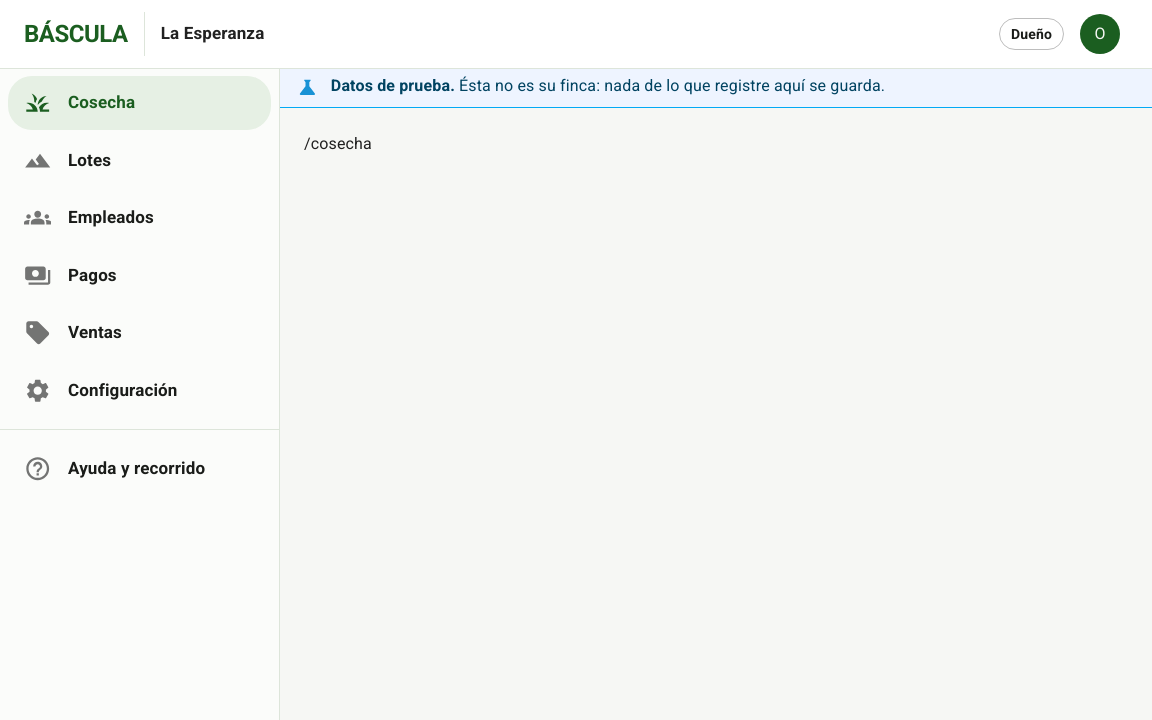
the account menu › starts the tour from «Ayuda y recorrido»
Click the button named "Cuenta" at (1100, 34), box [1072,6,1128,62]
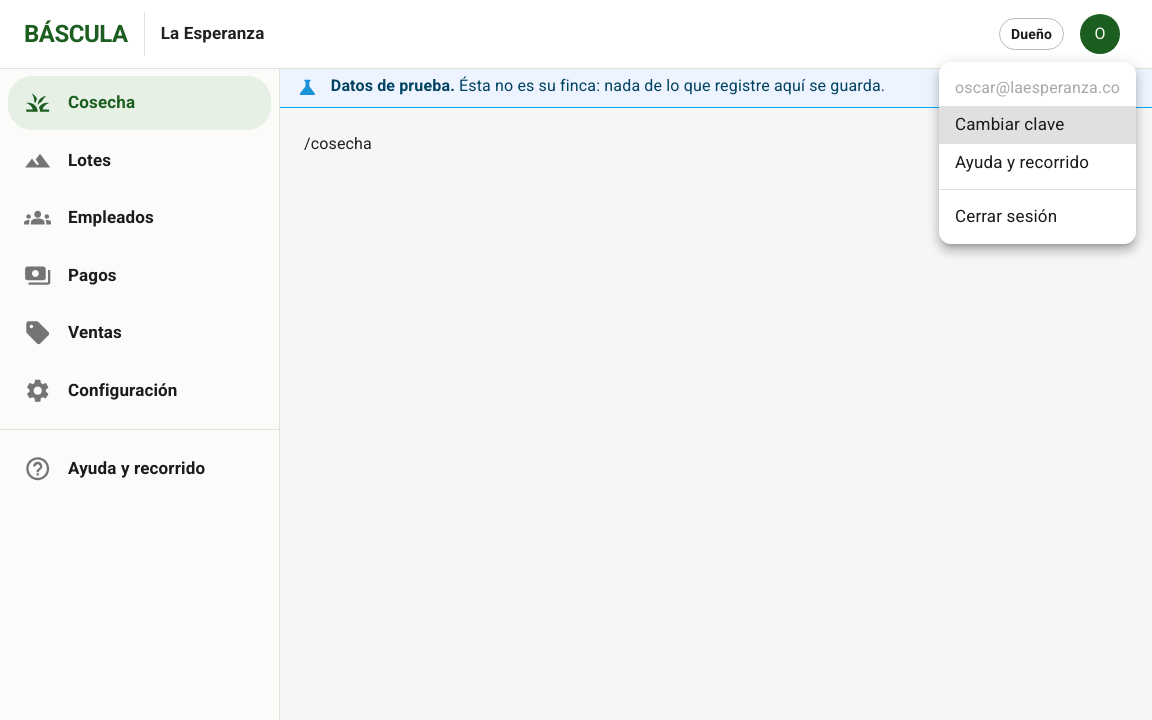
Now the menu item "Ayuda y recorrido" is shown
Click the menu item "Ayuda y recorrido" at (1022, 162), box [955,152,1089,172]
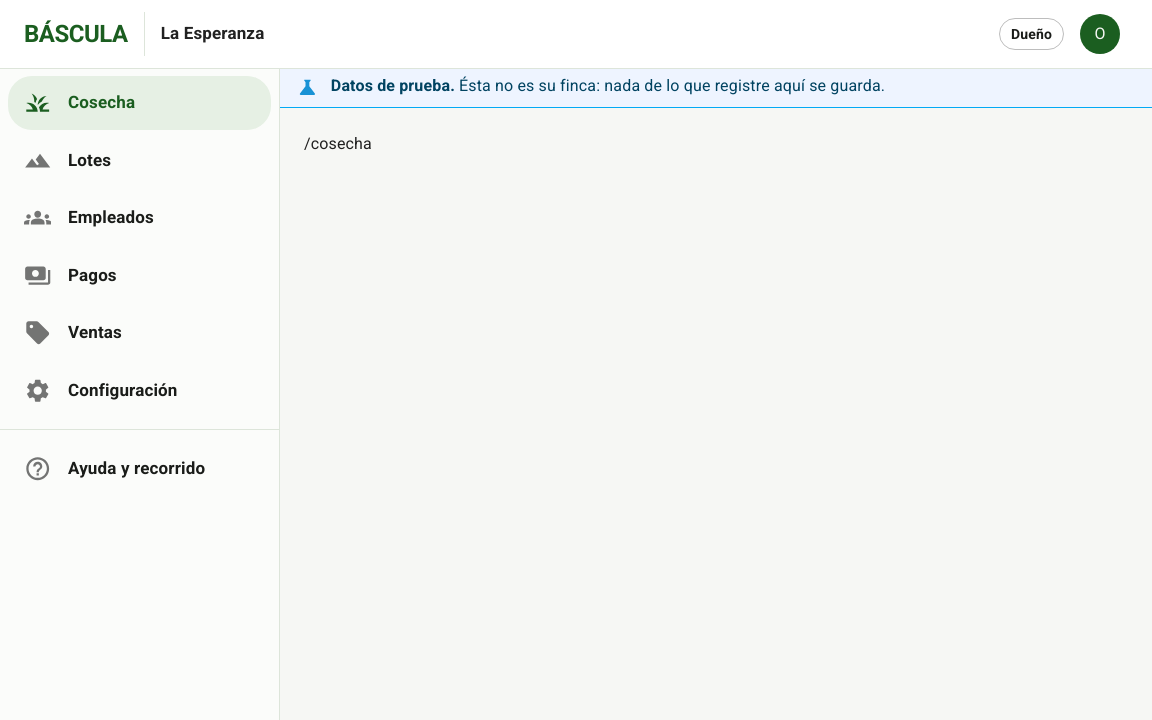
Now the menu is gone
